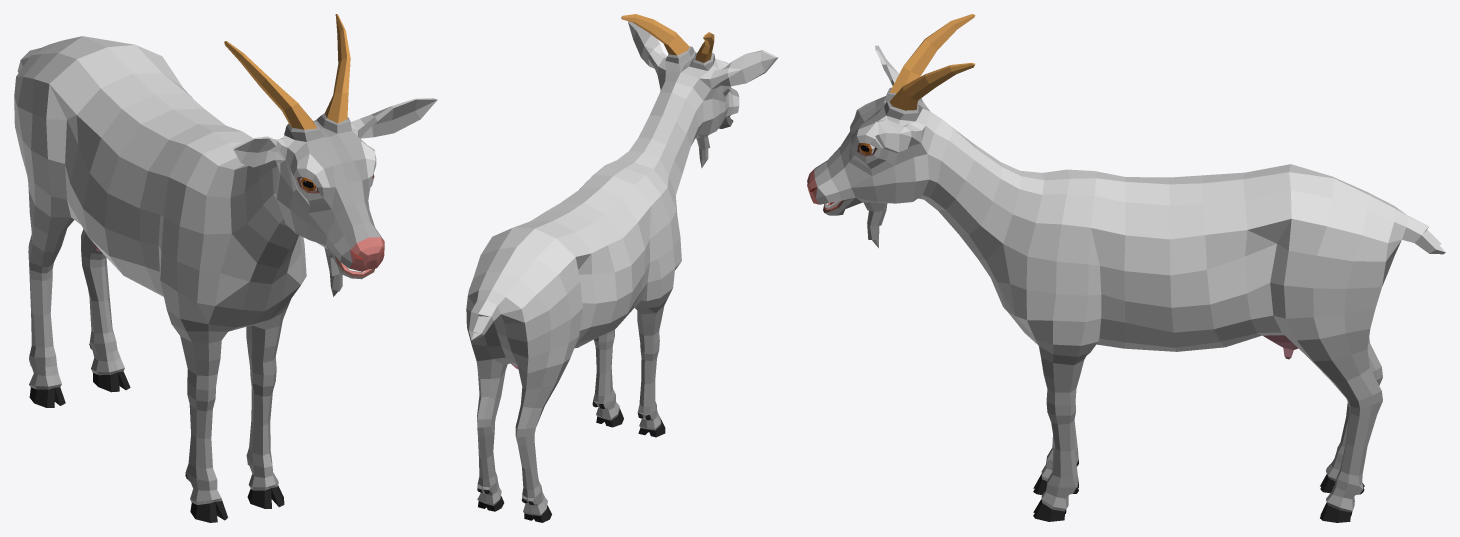
The model's file is LowPoly_Goat_Fem_1.obj.
3 views of the same model, side by side, from view 1: azimuth 30°, elevation 25°; view 2: azimuth 150°, elevation 25°; view 3: azimuth 270°, elevation 25° (orthographic). The views are drawn at different scales.
Visible parts, largest first — view 1: Goat_Fem_1_Cube; view 2: Goat_Fem_1_Cube; view 3: Goat_Fem_1_Cube.
Part boxes in pixels (x1=…): Goat_Fem_1_Cube: x1=14, y1=14, x2=437, y2=522; Goat_Fem_1_Cube: x1=466, y1=14, x2=778, y2=522; Goat_Fem_1_Cube: x1=807, y1=14, x2=1445, y2=522.
Size of the model in its own units: 0.3947 by 0.9443 by 1.18.
